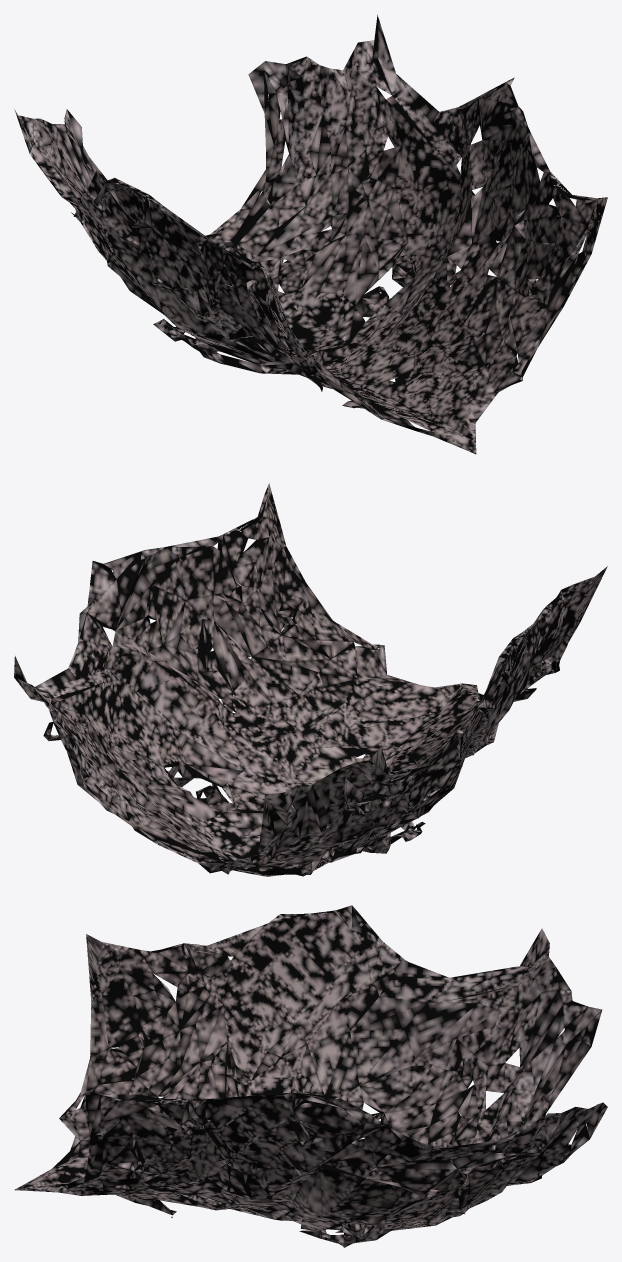
Rendered from vampire_chestplate_LOD2.glb.
The picture shows the model from 3 angles, top to bottom: view 1: azimuth 30°, elevation 25°; view 2: azimuth 150°, elevation 25°; view 3: azimuth 270°, elevation 25°; orthographic projection. The views are drawn at different scales.
Visible parts, largest first — view 1: vampire_chestplate_LOD2; view 2: vampire_chestplate_LOD2; view 3: vampire_chestplate_LOD2.
Part boxes in pixels (bbox=[...]): vampire_chestplate_LOD2: bbox=[14, 14, 607, 454]; vampire_chestplate_LOD2: bbox=[14, 483, 607, 876]; vampire_chestplate_LOD2: bbox=[15, 905, 607, 1247].
Bounding box in the file's own units: 0.5802 × 0.326 × 0.7637.
1 material, 1 textured.
